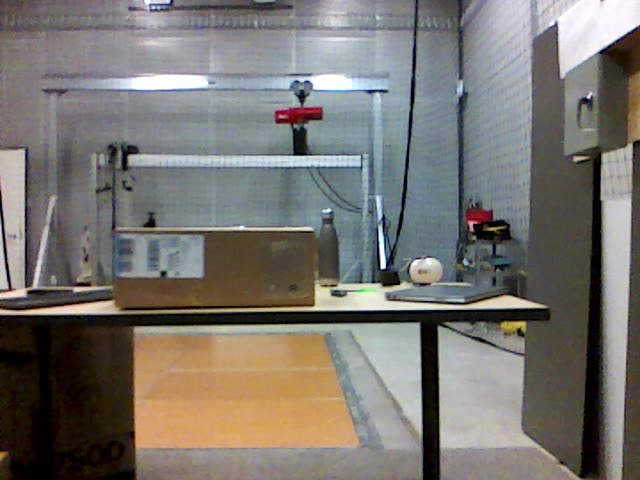box: (1, 329, 132, 480), (113, 227, 318, 309)
